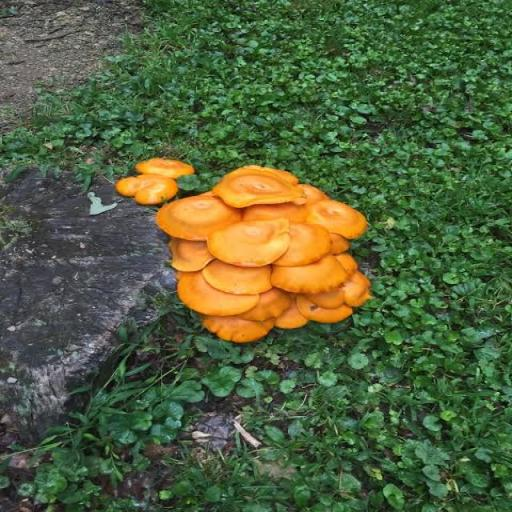Jack O Lantern Mushroom: (160, 261, 271, 319), (206, 217, 303, 268), (202, 167, 306, 209), (194, 250, 282, 299), (154, 191, 242, 236), (263, 256, 358, 294), (253, 220, 333, 264), (195, 307, 276, 347), (161, 234, 225, 275), (300, 201, 369, 239), (111, 173, 188, 207), (134, 158, 190, 179)
